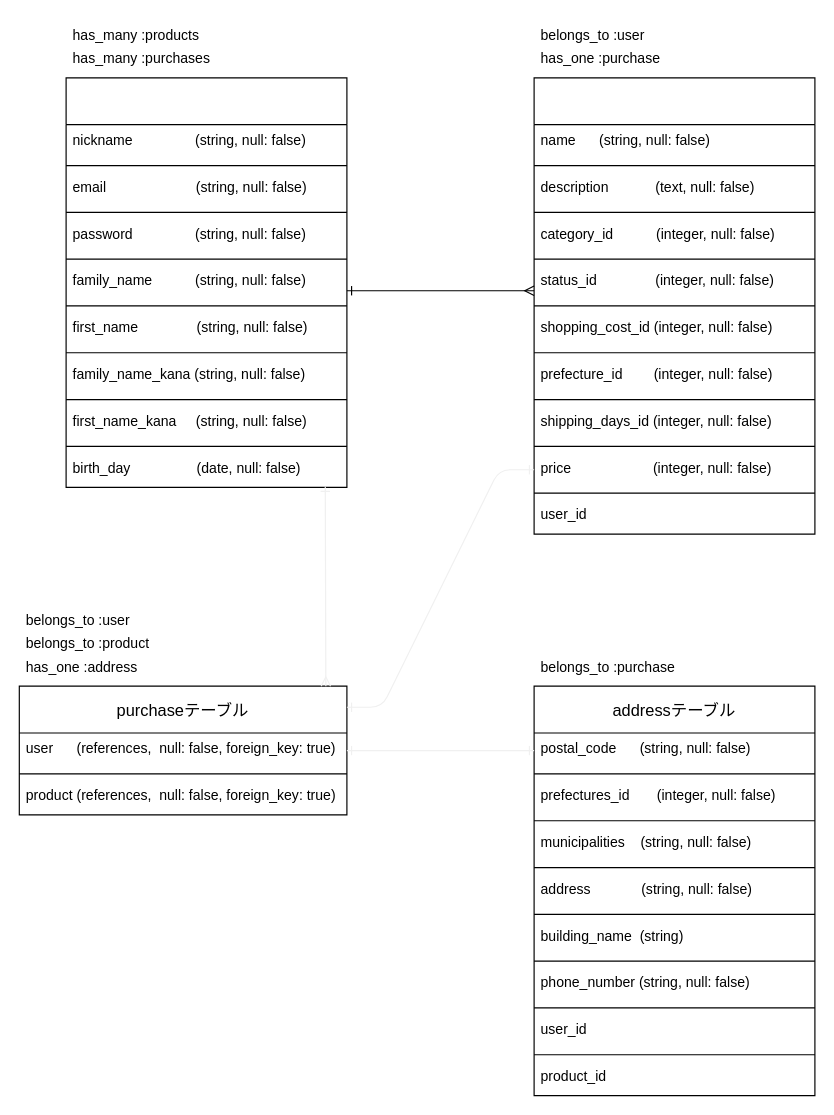
This 834x1115 diagram has some shape labels left out. Each missing label, with the box of its shape:
productsテーブル: (533, 77, 815, 534)
usersテーブル: (65, 77, 347, 487)
